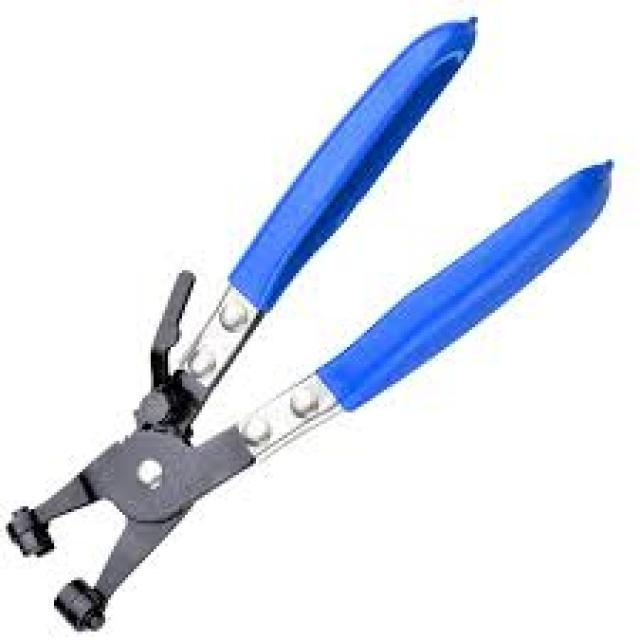pliers: (4, 10, 622, 626)
